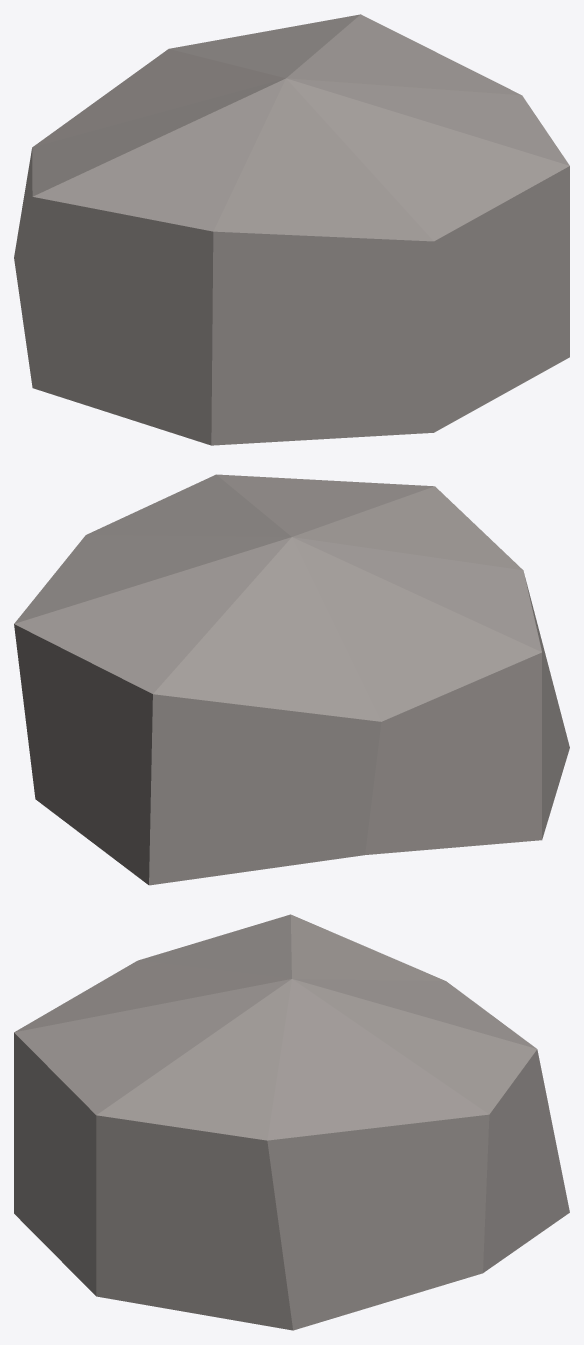
The model's file is Rock_01.fbx.
The picture shows the model from 3 angles, top to bottom: view 1: azimuth 30°, elevation 25°; view 2: azimuth 150°, elevation 25°; view 3: azimuth 270°, elevation 25°; orthographic projection. The views are drawn at different scales.
Visible parts, largest first — view 1: Rock_01; view 2: Rock_01; view 3: Rock_01.
Part boxes in pixels (x1,y1,x2,y2): Rock_01: (14,14,569,445); Rock_01: (14,474,569,885); Rock_01: (14,914,569,1330).
Size of the model in its own units: 1.54 by 0.8124 by 1.54.
